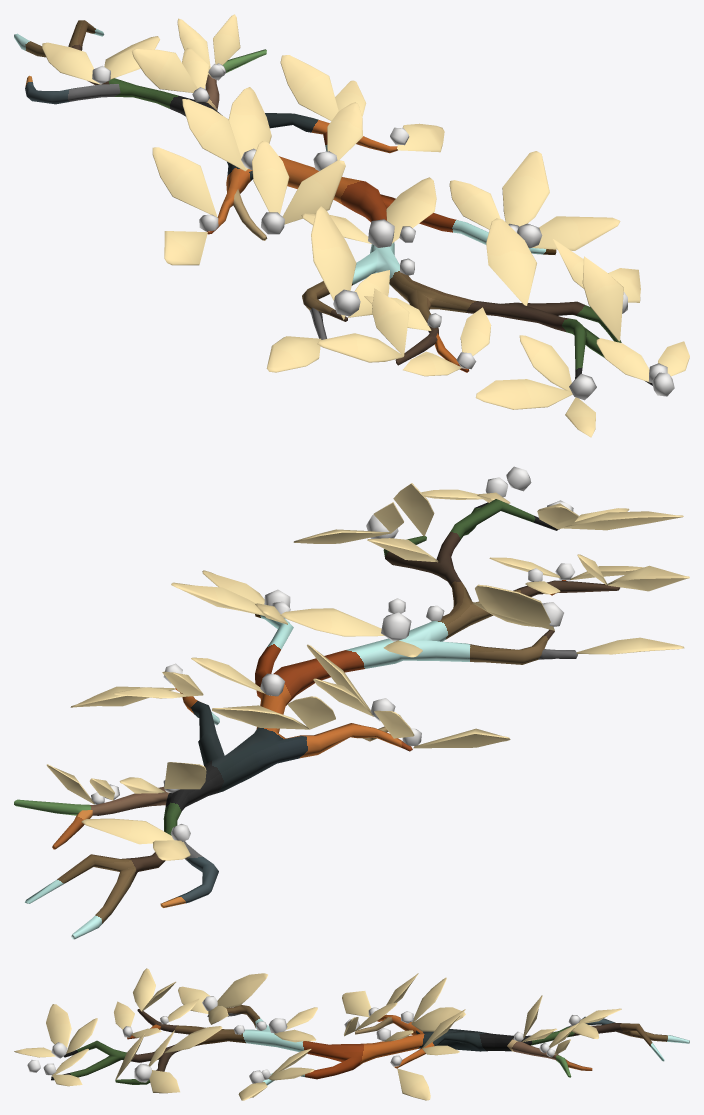
The model's file is Prop_AP27PlantVine.glb.
The picture shows the model from 3 angles, top to bottom: view 1: azimuth 30°, elevation 25°; view 2: azimuth 150°, elevation 25°; view 3: azimuth 270°, elevation 25°; orthographic projection. The views are drawn at different scales.
Visible parts, largest first — view 1: Prop_AP27PlantVine; view 2: Prop_AP27PlantVine; view 3: Prop_AP27PlantVine.
Part boxes in pixels (x1,y1,x2,y2): Prop_AP27PlantVine: (14, 14, 689, 437); Prop_AP27PlantVine: (14, 466, 689, 939); Prop_AP27PlantVine: (14, 968, 689, 1100).
Size of the model in its own units: 0.9548 by 0.2252 by 2.26.
1 material, 1 textured.
